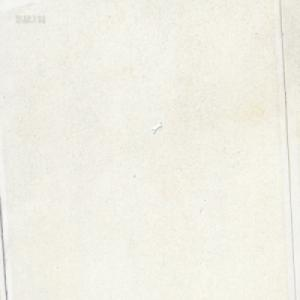Wrench: (152, 121, 162, 133)
